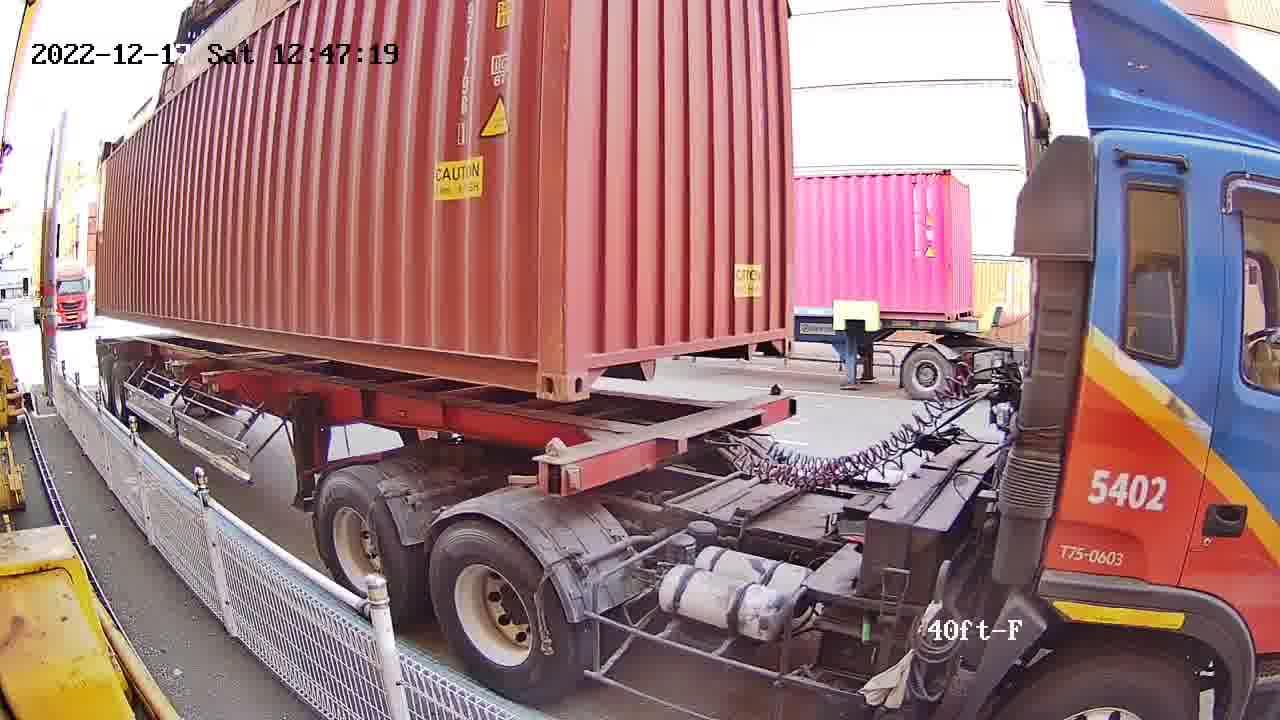Chassis: (533, 389, 796, 495)
Cone: (531, 435, 575, 497), (763, 381, 788, 410)
Hole_L: (570, 332, 617, 401)
Hole_R: (511, 332, 572, 400), (760, 312, 797, 360)
Tire: (431, 523, 577, 698), (311, 475, 408, 610)
